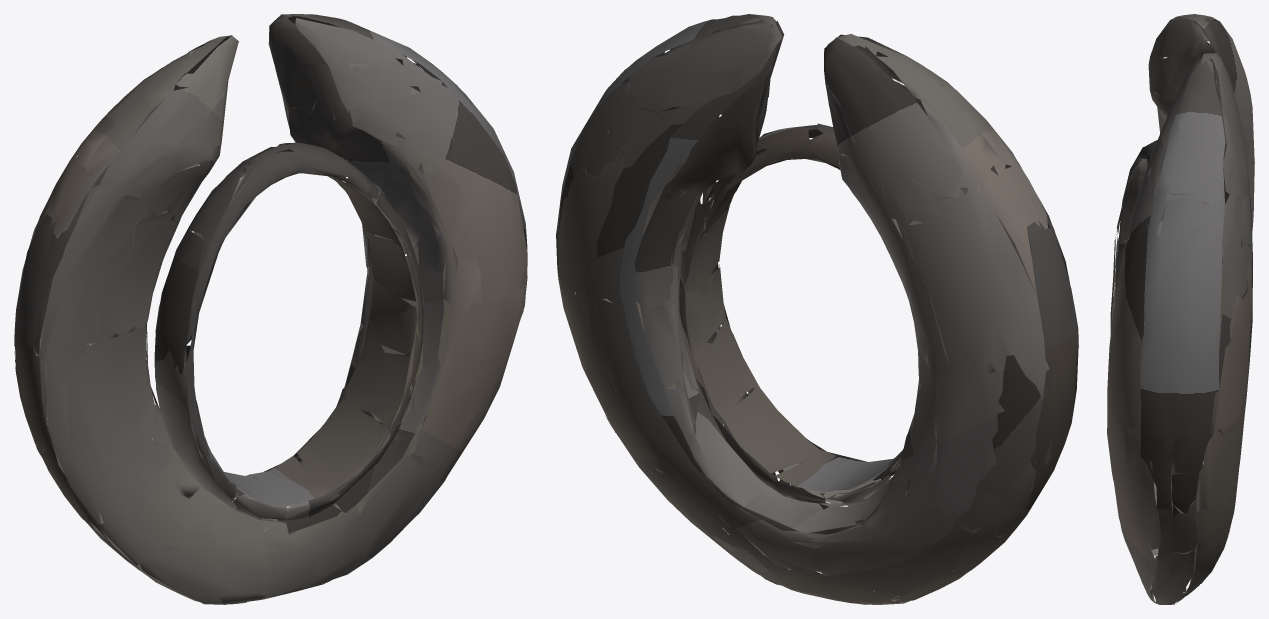
The model's file is sculpt_mirror.glb.
3 views of the same model, side by side, from view 1: azimuth 30°, elevation 25°; view 2: azimuth 150°, elevation 25°; view 3: azimuth 270°, elevation 25° (orthographic). The views are drawn at different scales.
Parts seen in each view (by area): view 1: LO.001; view 2: LO.001; view 3: LO.001.
Part boxes in pixels (x1,y1,x2,y2): LO.001: (14, 14, 527, 604); LO.001: (556, 14, 1078, 604); LO.001: (1107, 14, 1254, 604).
Size of the model in its own units: 4.64 by 5 by 1.25.
1 material, 1 textured.
